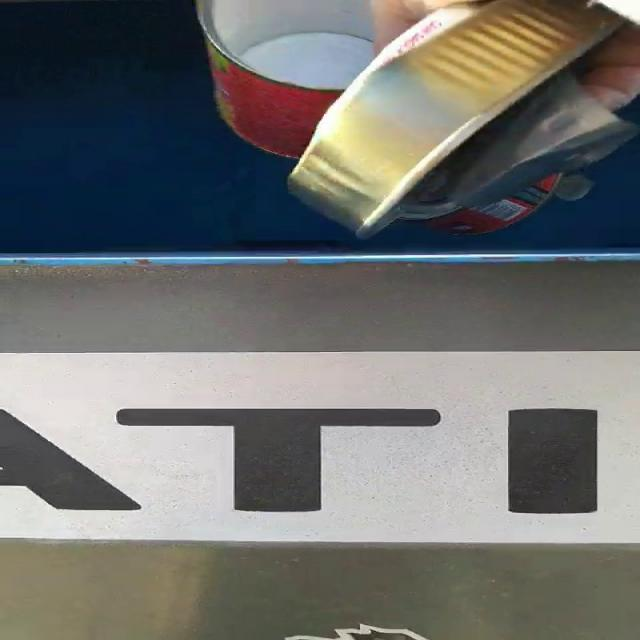bin: (1, 0, 640, 640)
metal: (196, 0, 637, 238)
